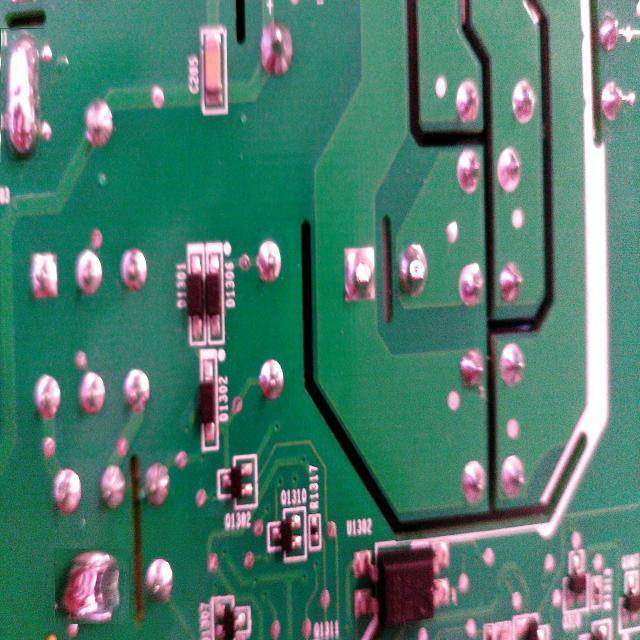Short_circuit: (0, 28, 44, 162), (55, 548, 129, 624)
